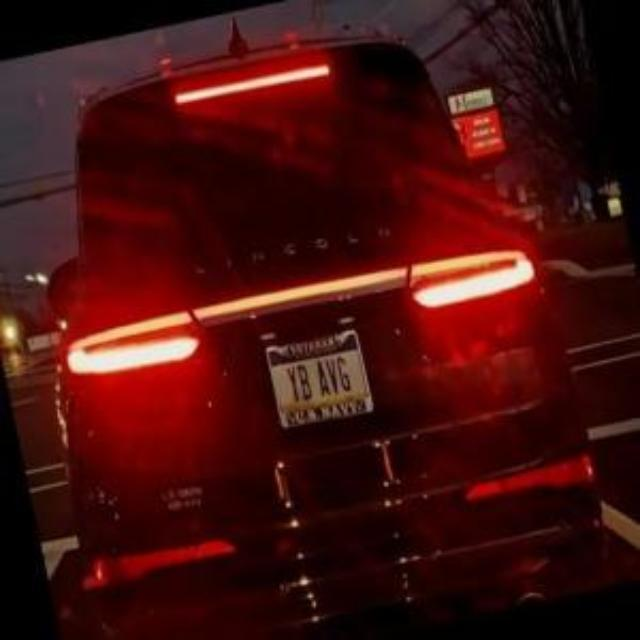license_plate: (263, 328, 373, 430)
